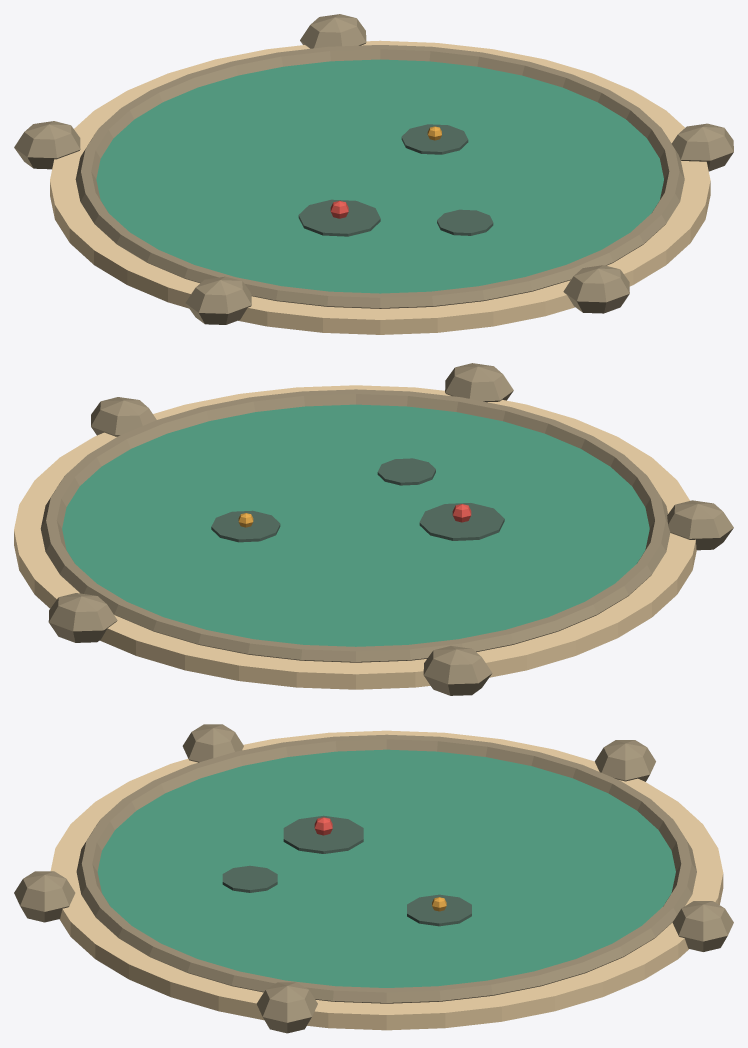
The model's file is ParkParkDecorPond.obj.
3 views of the same model, one above another, from view 1: azimuth 30°, elevation 25°; view 2: azimuth 150°, elevation 25°; view 3: azimuth 270°, elevation 25° (orthographic). The views are drawn at different scales.
Visible parts, largest first — view 1: ParkParkDecorPond; view 2: ParkParkDecorPond; view 3: ParkParkDecorPond.
Boxes of the visible parts, <box> form: ParkParkDecorPond: <box>14,14,733,334</box>; ParkParkDecorPond: <box>14,363,733,695</box>; ParkParkDecorPond: <box>14,724,733,1033</box>.
Size of the model in its own units: 13.21 by 0.9 by 13.69.
